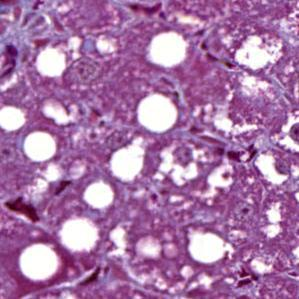steatosis: (135, 93, 179, 130), (25, 128, 60, 166)
